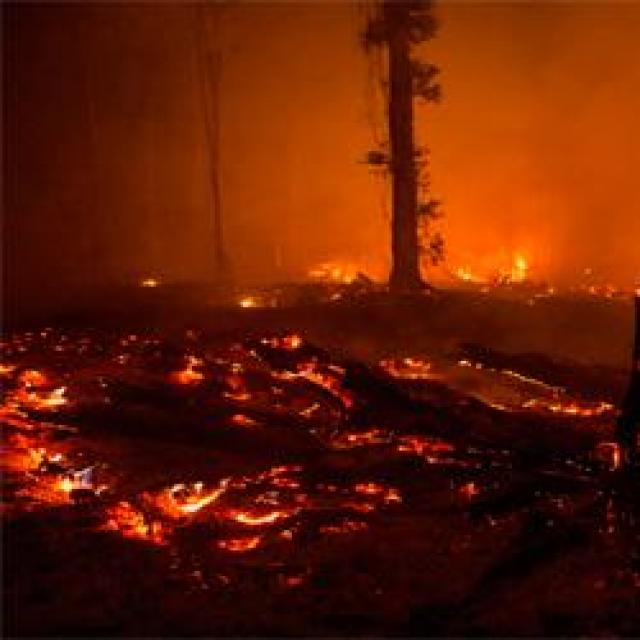fire: (22, 444, 101, 503), (155, 473, 232, 515), (499, 240, 542, 293), (311, 256, 382, 288), (33, 377, 75, 411)
